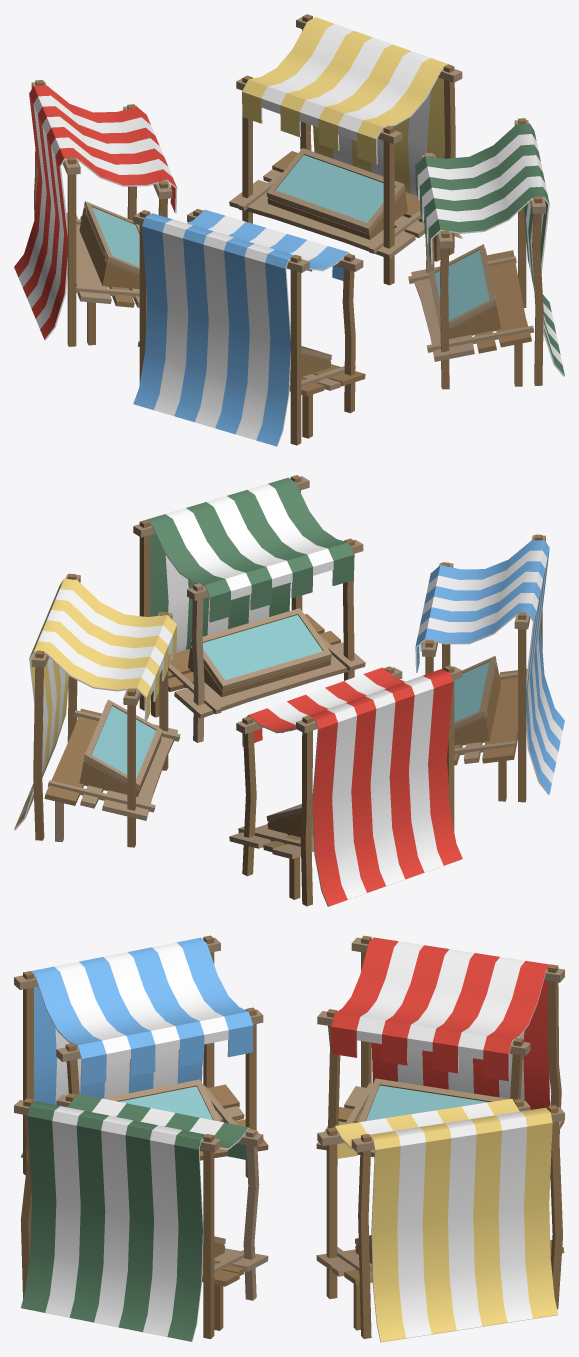
File: Market.fbx
3 views of the same model, one above another, from view 1: azimuth 30°, elevation 25°; view 2: azimuth 150°, elevation 25°; view 3: azimuth 270°, elevation 25° (orthographic). The views are drawn at different scales.
Visible parts, largest first — view 1: market; view 2: market; view 3: market.
Boxes of the visible parts, x1,y1,x2,y2 form: market: (14, 14, 564, 446); market: (14, 475, 564, 906); market: (14, 935, 564, 1342).
Size of the model in its own units: 314 by 134 by 333.
